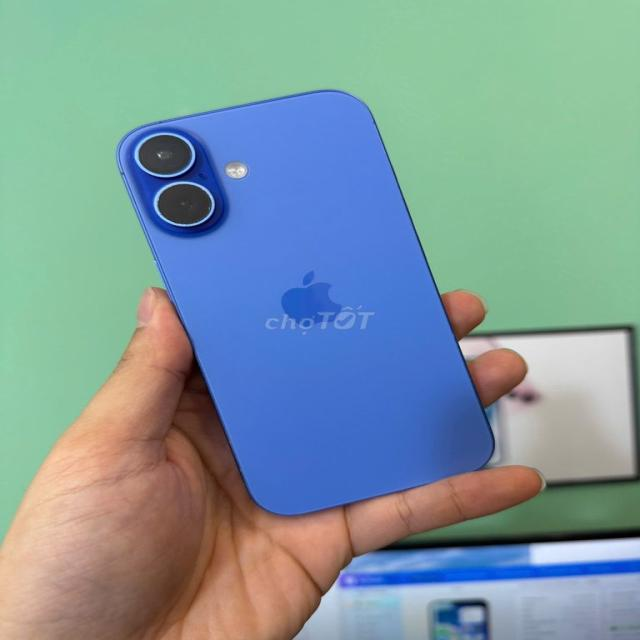gen_16: (119, 92, 492, 514)
